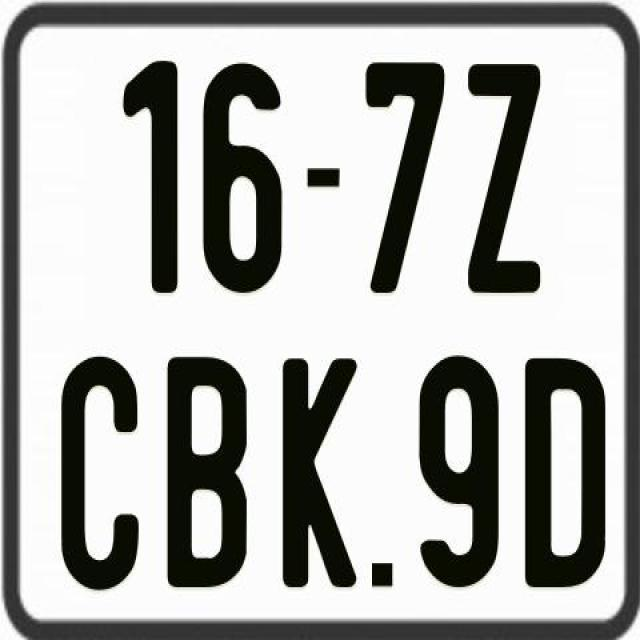1: (121, 61, 176, 293)
6: (202, 64, 282, 293)
7: (361, 58, 443, 294)
9: (417, 355, 499, 592)
B: (166, 356, 250, 590)
C: (57, 356, 143, 596)
D: (525, 354, 611, 588)
K: (278, 357, 354, 590)
Z: (464, 59, 540, 288)
